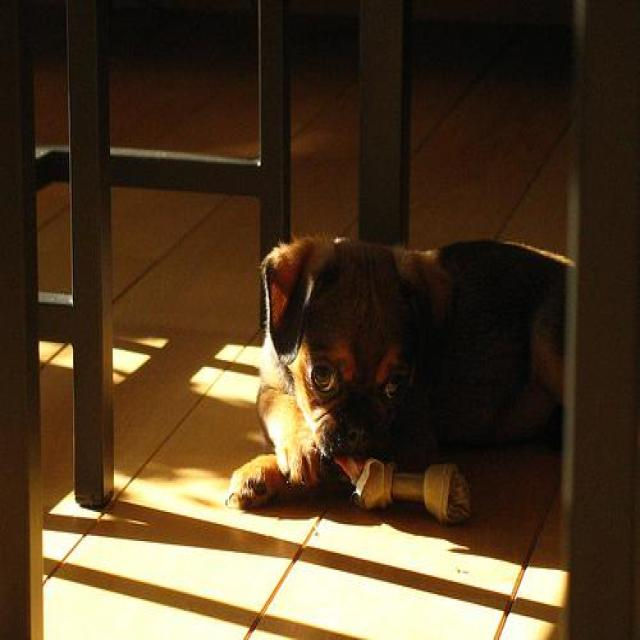Dog: (221, 203, 572, 600)
